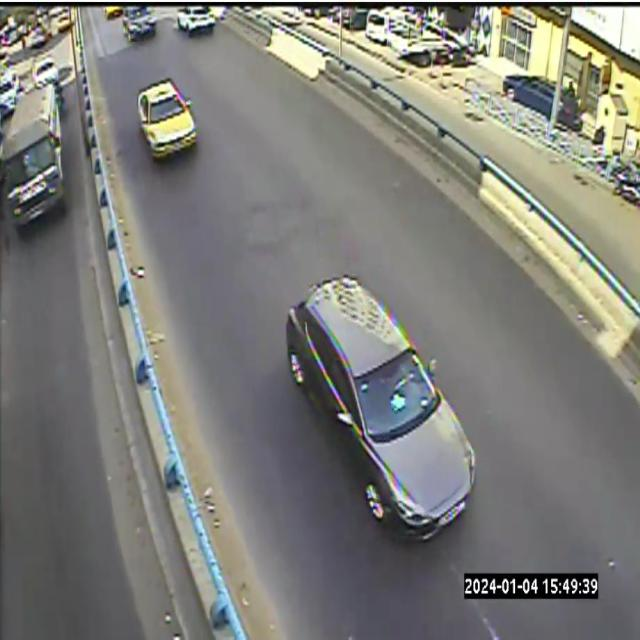car: (287, 276, 475, 539), (137, 78, 197, 157), (177, 5, 216, 37), (122, 5, 155, 40)
